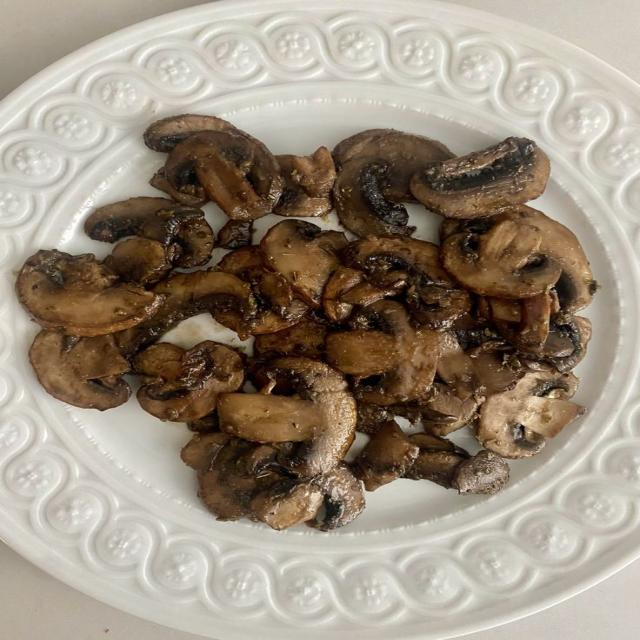champignon mushrooms: (440, 205, 598, 322), (181, 433, 364, 531), (218, 357, 356, 477), (334, 130, 453, 236), (16, 250, 162, 336), (344, 235, 471, 328), (116, 271, 255, 355), (326, 301, 438, 405), (411, 138, 550, 218), (505, 206, 598, 322), (165, 130, 283, 220), (477, 372, 586, 459), (441, 220, 561, 298), (85, 197, 214, 268), (134, 341, 244, 422), (333, 129, 453, 202), (29, 331, 130, 410), (219, 246, 307, 334), (260, 220, 347, 308), (199, 434, 282, 520), (334, 158, 415, 236), (406, 434, 509, 494), (437, 334, 524, 400), (219, 394, 323, 442), (352, 421, 419, 491), (323, 267, 406, 322), (486, 292, 559, 353), (274, 147, 336, 217), (307, 464, 365, 531), (250, 479, 324, 530), (524, 317, 592, 372), (144, 114, 239, 152), (405, 434, 468, 488), (104, 238, 172, 285), (254, 317, 328, 359), (420, 383, 478, 435), (452, 451, 509, 495), (322, 267, 366, 322), (149, 168, 207, 207), (181, 432, 232, 471), (357, 401, 392, 435), (218, 220, 253, 249), (187, 412, 219, 433)
